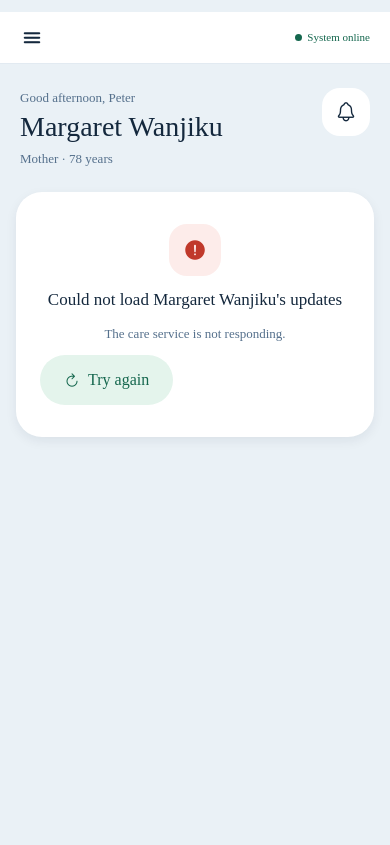
the states around it › offers a retry when the overview fails
The width and height of the screenshot is (390, 845).
Expected: the text "The care service is not responding." is shown, [104,324,286,343]
Click the button labelled "Try again".
click(107, 380)  # box [40,355,173,405]
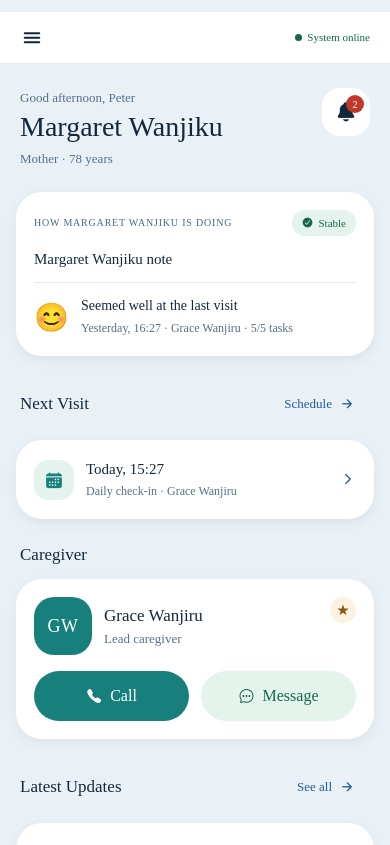
Now the text "Margaret Wanjiku note" is shown, box [34,251,172,267]
